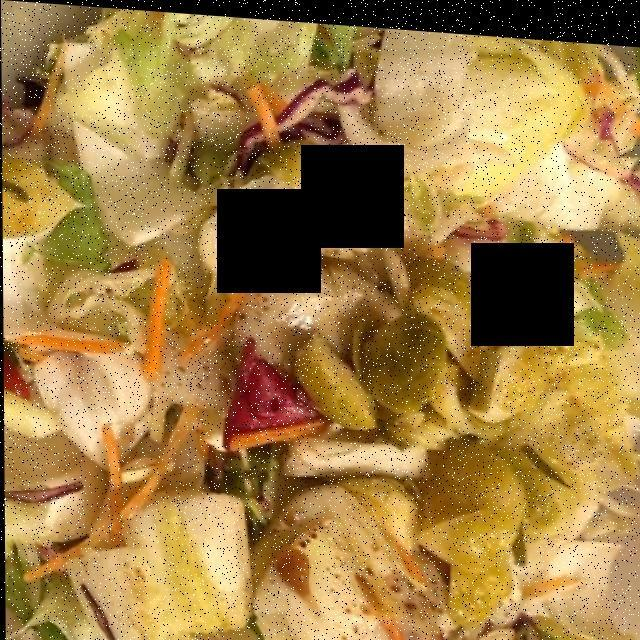brussel-sprouts: (278, 264, 562, 590)
salad: (2, 18, 628, 640), (154, 259, 375, 427)
